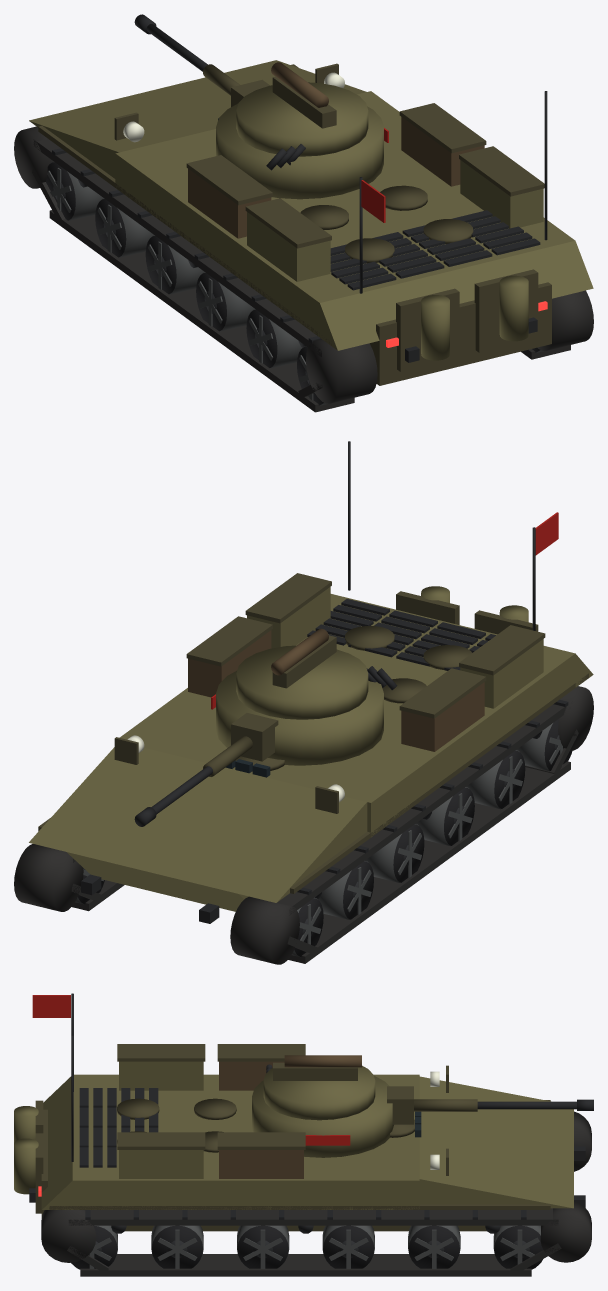
File: IFV_Red.fbx
The picture shows the model from 3 angles, top to bottom: view 1: azimuth 30°, elevation 25°; view 2: azimuth 150°, elevation 25°; view 3: azimuth 270°, elevation 25°; orthographic projection. The views are drawn at different scales.
Visible parts, largest first — view 1: UpperHull, Glacis, RearSlope, TurretBase, TurretTop, TrackBottomL, TrackTopL, TrackWrapRearL, LowerHull, FenderBoxL0, FenderBoxR0, RearDoorR (+33 smaller); view 2: Glacis, UpperHull, TurretBase, TurretTop, TrackBottomL, TrackTopL, TrackWrapFrontL, TrackWrapFrontR, LowerGlacis, FenderBoxL1, FenderBoxLidL1, FenderBoxLidL0 (+28 smaller); view 3: UpperHull, Glacis, TrackTopR, TrackBottomR, TurretBase, TurretTop, RearSlope, FenderBoxL0, FenderBoxR0, FenderBoxR1, TrackWrapRearR, TrackWrapFrontR (+29 smaller).
Boxes of the visible parts, box(x1,y1,x2,y2) form: UpperHull: box(115, 91, 574, 336); Glacis: box(29, 60, 366, 178); RearSlope: box(319, 240, 593, 350); TurretBase: box(216, 103, 383, 199); TurretTop: box(236, 82, 368, 156); TrackBottomL: box(49, 210, 354, 412); TrackTopL: box(33, 139, 321, 356); TrackWrapRearL: box(306, 339, 377, 403); LowerHull: box(370, 299, 551, 385); FenderBoxL0: box(247, 212, 330, 281); FenderBoxR0: box(460, 160, 543, 228); RearDoorR: box(474, 269, 538, 352); Glacis: box(29, 747, 367, 902); UpperHull: box(119, 594, 575, 837); TurretBase: box(216, 670, 383, 765); TurretTop: box(236, 645, 368, 719); TrackBottomL: box(288, 761, 570, 963); TrackTopL: box(277, 704, 566, 915); TrackWrapFrontL: box(230, 896, 299, 964); TrackWrapFrontR: box(14, 844, 83, 911); LowerGlacis: box(67, 852, 248, 911); FenderBoxL1: box(401, 682, 484, 751); FenderBoxLidL1: box(399, 668, 486, 718); FenderBoxLidL0: box(459, 625, 545, 675); UpperHull: box(72, 1074, 419, 1209); Glacis: box(419, 1076, 573, 1208); TrackTopR: box(68, 1208, 558, 1225); TrackBottomR: box(80, 1254, 531, 1276); TurretBase: box(252, 1075, 393, 1157); TurretTop: box(263, 1062, 375, 1120); RearSlope: box(41, 1076, 72, 1209); FenderBoxL0: box(119, 1061, 203, 1090); FenderBoxR0: box(119, 1150, 203, 1178); FenderBoxR1: box(219, 1150, 303, 1178); TrackWrapRearR: box(41, 1210, 96, 1262); TrackWrapFrontR: box(540, 1201, 591, 1262).
Bounding box in the file's own units: 326 × 752 × 327.
